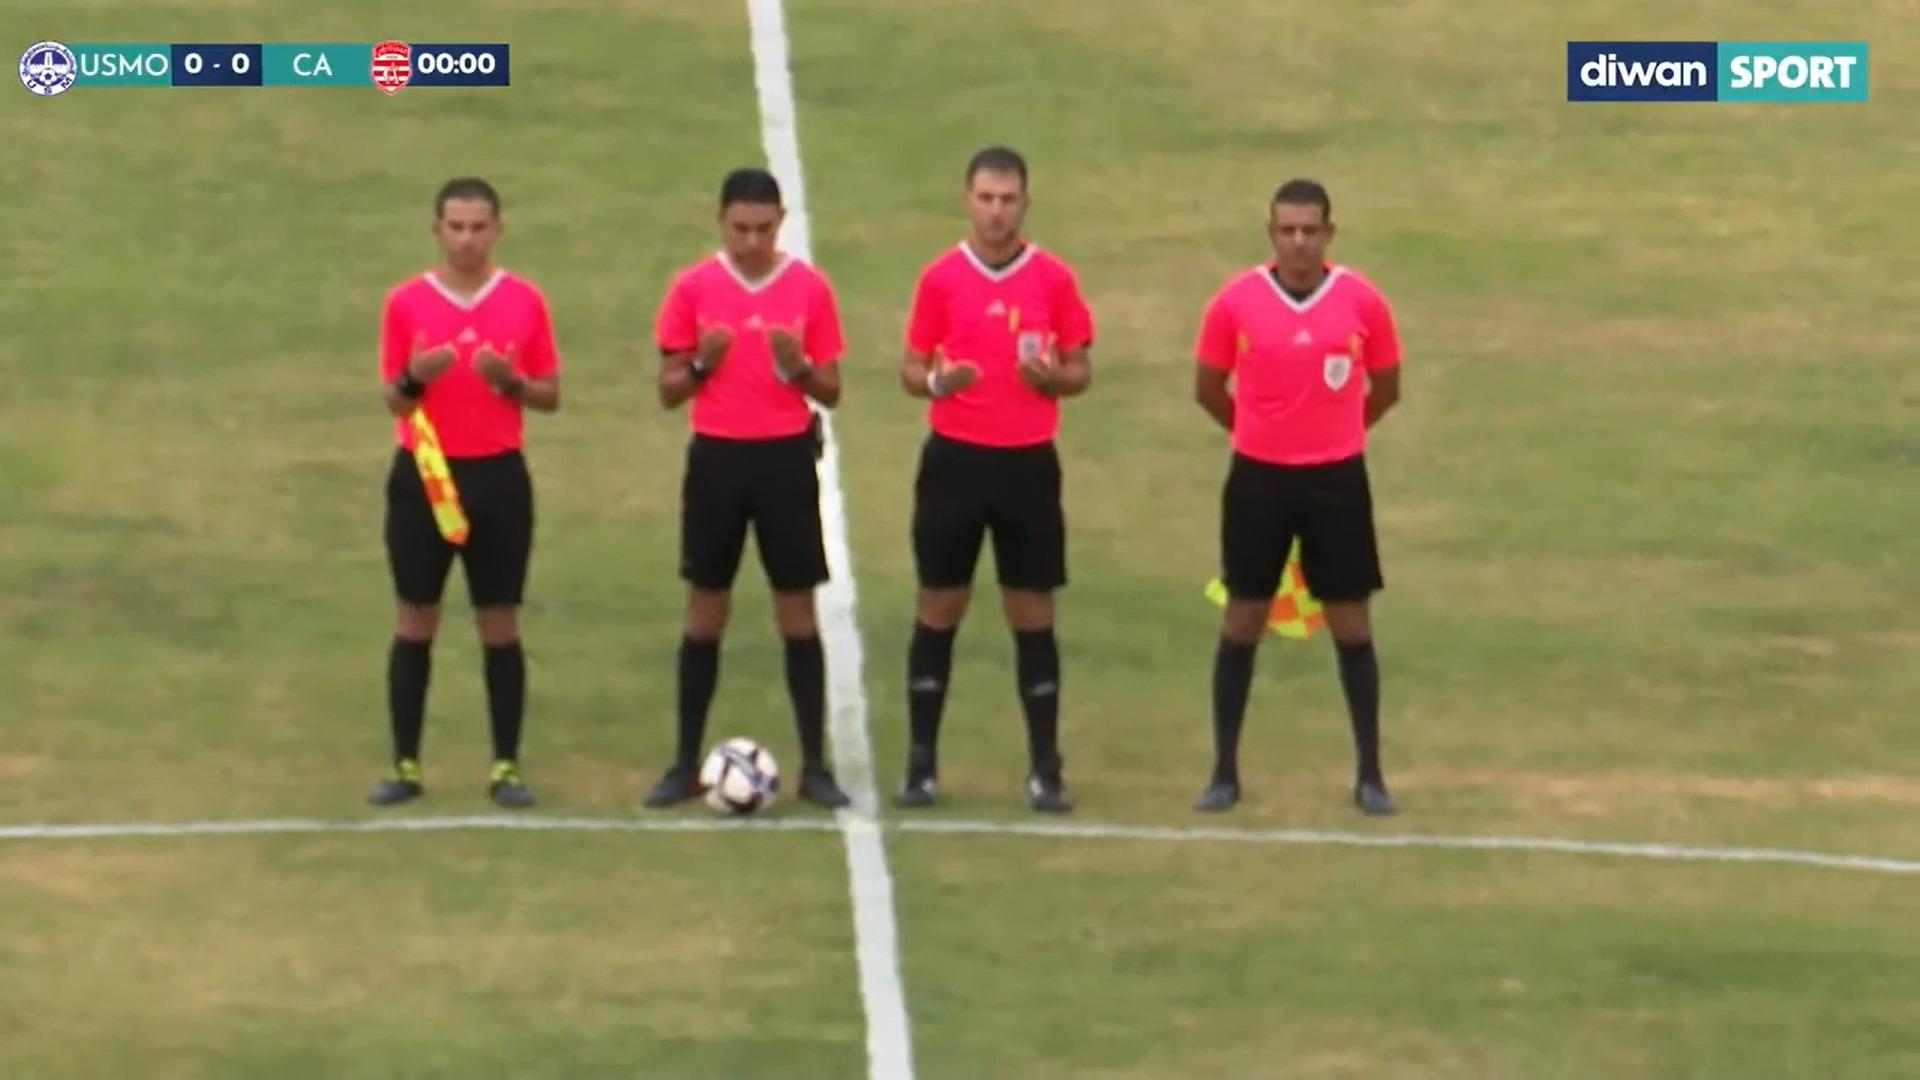ball: (695, 723, 791, 832)
referee: (646, 141, 872, 827), (1188, 173, 1415, 851), (901, 142, 1101, 831), (363, 166, 574, 812)
